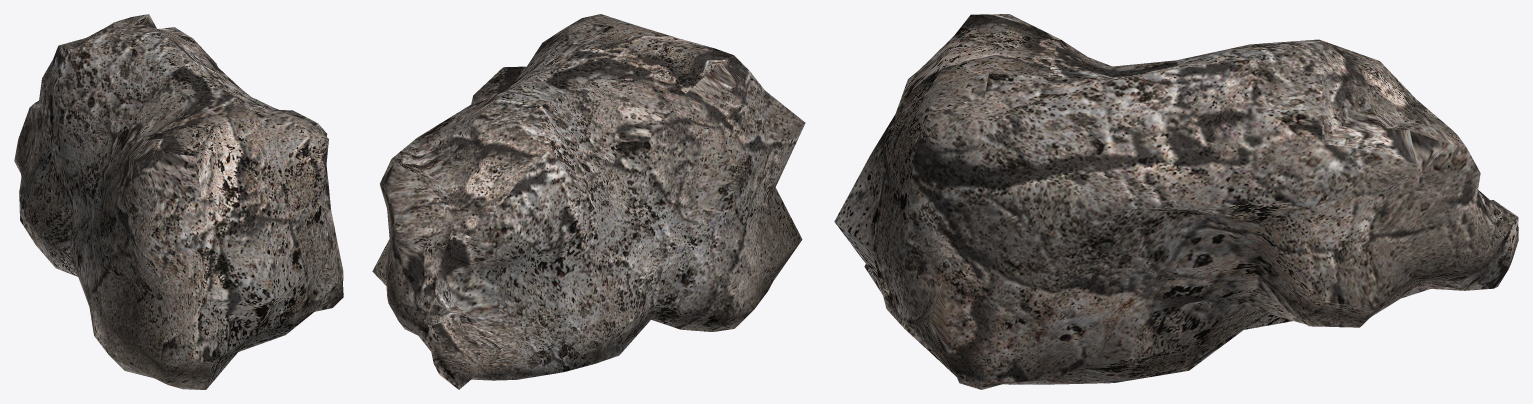
Rendered from Rock_5x10_C.FBX.
3 views of the same model, side by side, from view 1: azimuth 30°, elevation 25°; view 2: azimuth 150°, elevation 25°; view 3: azimuth 270°, elevation 25° (orthographic). The views are drawn at different scales.
Visible parts, largest first — view 1: Rock_5x10_C; view 2: Rock_5x10_C; view 3: Rock_5x10_C.
Boxes of the visible parts, x1=… form: Rock_5x10_C: x1=14, y1=14, x2=343, y2=389; Rock_5x10_C: x1=372, y1=14, x2=805, y2=389; Rock_5x10_C: x1=834, y1=14, x2=1518, y2=389.
Size of the model in its own units: 4.84 by 5.12 by 9.12.
Materials: 1 (1 with a texture image).
